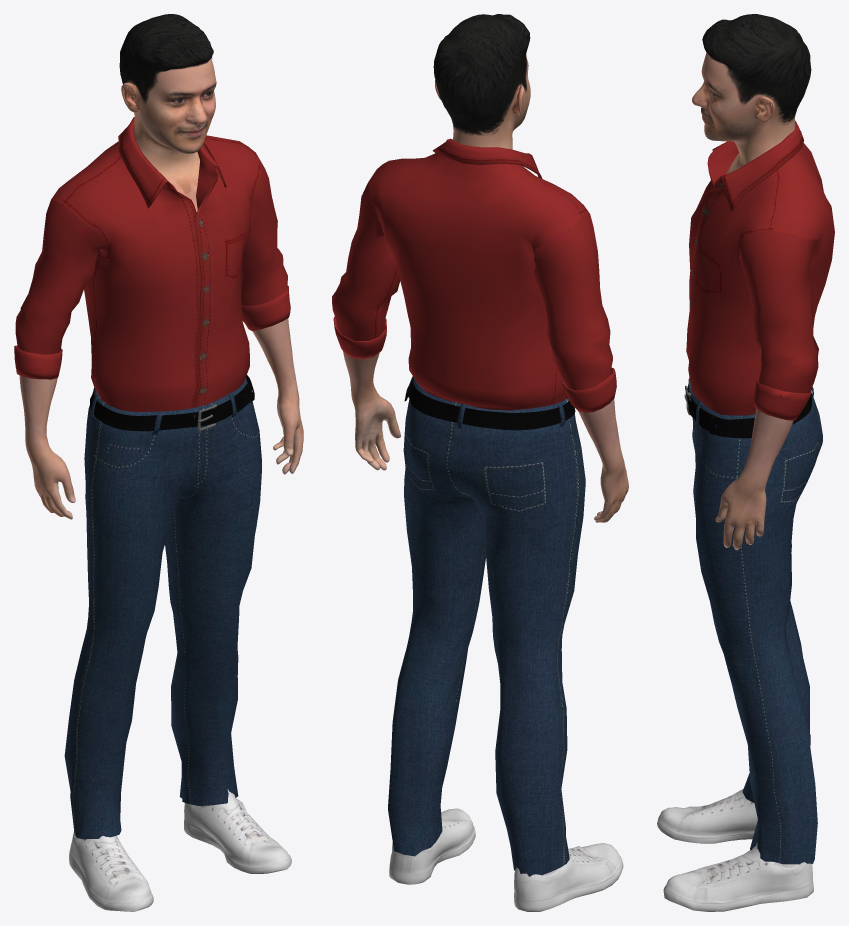
File: avthar1.glb
3 renders of one model, left to right at view 1: azimuth 30°, elevation 25°; view 2: azimuth 150°, elevation 25°; view 3: azimuth 270°, elevation 25°, orthographic. The views are drawn at different scales.
Parts seen in each view (by area): view 1: avaturn_look_0, avaturn_body, avaturn_shoes_0, avaturn_hair_0; view 2: avaturn_look_0, avaturn_hair_0, avaturn_body, avaturn_shoes_0; view 3: avaturn_look_0, avaturn_body, avaturn_shoes_0, avaturn_hair_0.
Boxes of the visible parts, x1,y1,x2,y2 form: avaturn_look_0: (14, 117, 290, 839); avaturn_body: (19, 58, 303, 808); avaturn_shoes_0: (69, 789, 291, 911); avaturn_hair_0: (119, 14, 213, 103); avaturn_look_0: (332, 138, 616, 876); avaturn_hair_0: (433, 14, 530, 135); avaturn_body: (343, 54, 628, 875); avaturn_shoes_0: (389, 808, 623, 911); avaturn_look_0: (684, 120, 834, 864); avaturn_body: (692, 52, 799, 867); avaturn_shoes_0: (657, 788, 813, 911); avaturn_hair_0: (702, 14, 811, 124).
Size of the model in its own units: 0.6158 by 1.86 by 0.3512.
4 materials, 4 textured.
